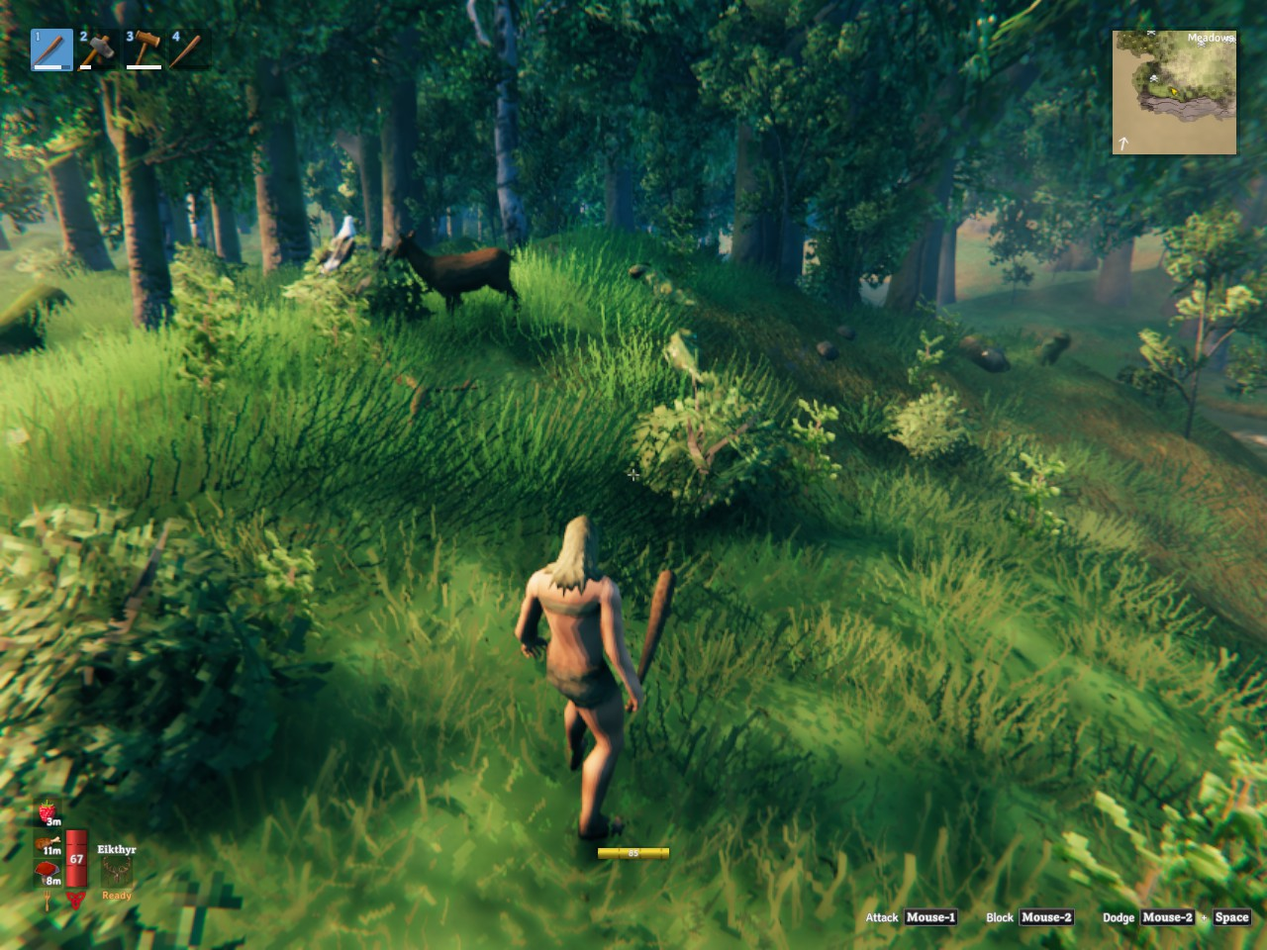Deer: (380, 231, 519, 313)
Food Indicator: (36, 797, 63, 891)
Health Bar: (63, 820, 90, 891)
Hotbar: (25, 21, 398, 78)
Stone: (817, 341, 837, 359), (629, 263, 648, 279), (836, 325, 855, 338)
